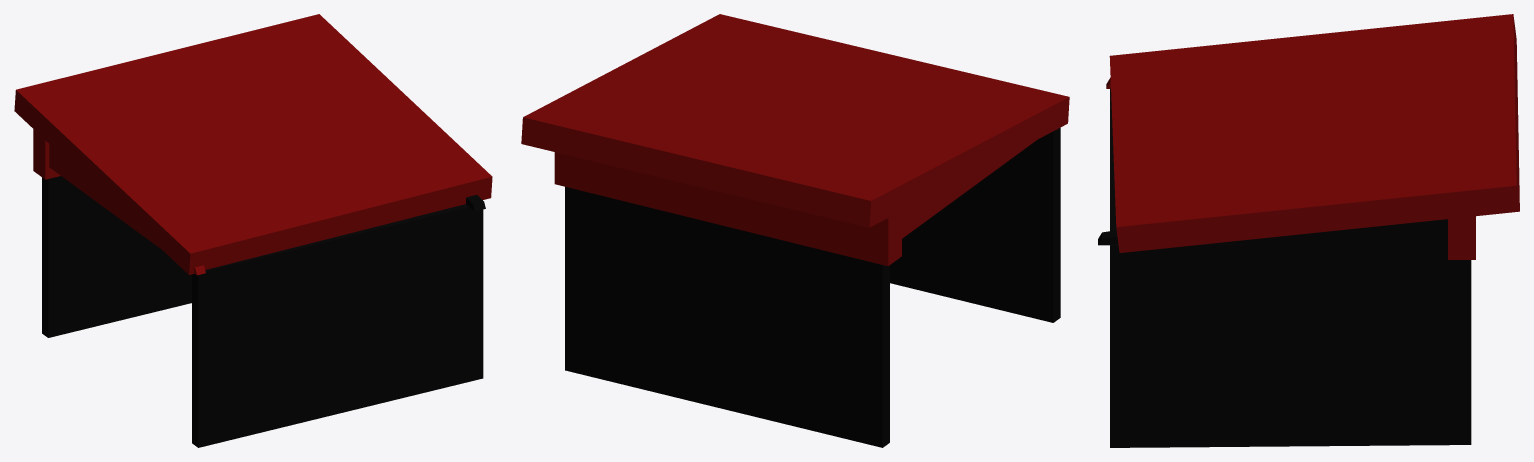
The model's file is House1.FBX.
3 renders of one model, left to right at view 1: azimuth 30°, elevation 25°; view 2: azimuth 150°, elevation 25°; view 3: azimuth 270°, elevation 25°, orthographic. The views are drawn at different scales.
Parts seen in each view (by area): view 1: House1; view 2: House1; view 3: House1.
Part boxes in pixels (bbox=[...]): House1: bbox=[14, 14, 492, 447]; House1: bbox=[521, 14, 1069, 447]; House1: bbox=[1098, 14, 1519, 447].
Bounding box in the file's own units: 1023 × 1060 × 746.
